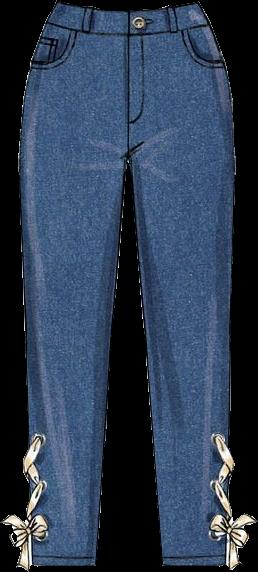Hemline: (23, 559, 96, 569), (163, 558, 235, 568)
Pantleg: (18, 3, 129, 566), (127, 4, 235, 566)
Waistline: (45, 18, 212, 38), (56, 0, 200, 14)
